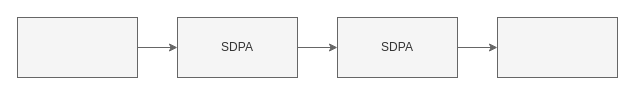
This 635x95 diagram has some shape labels left out. Each missing label, with the centre of its shape:
Embedding: [77,47]
Head: [557,47]
